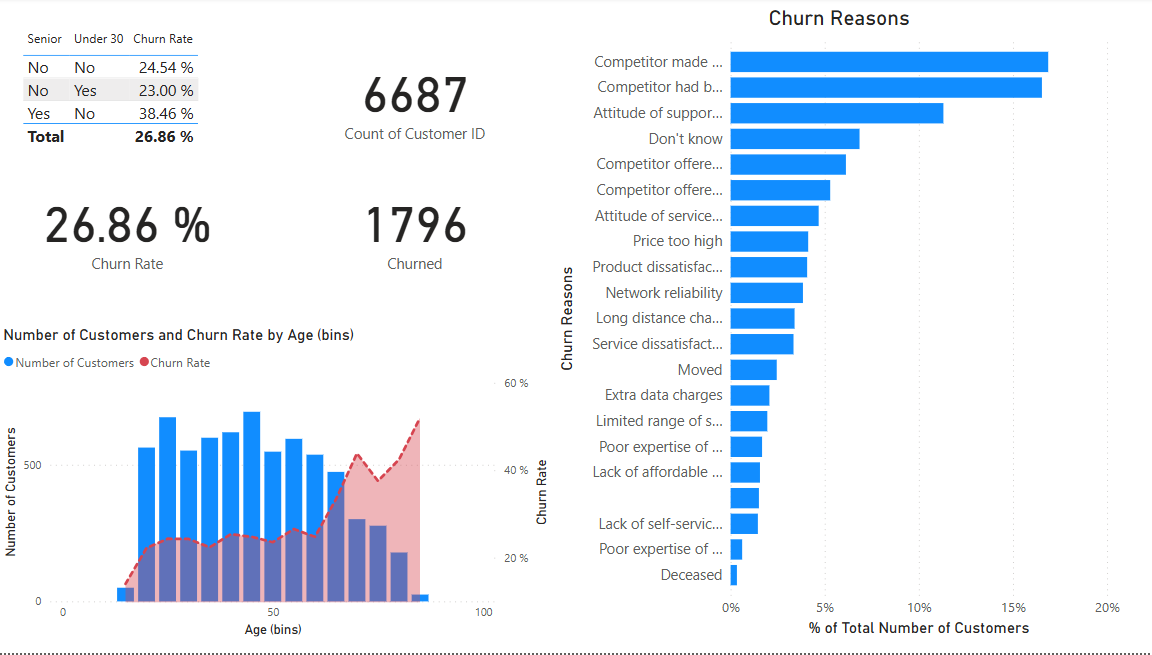

The dashboard page shown, as its layout file describes it:
{"tool":"powerbi","page":{"name":"Churn Demographics","canvas":[1280,720],"ordinal":0},"visuals":[{"type":"tableEx","fields":{"Values":["Databel - Data.Senior","Databel - Data.Under 30","Databel - Data.Churn Rate"]},"box":[35.2,30.8,280.1,161.3],"z":0},{"type":"clusteredBarChart","title":"Churn Reasons","fields":{"Category":["Databel - Data.Churn Reason"],"Y":["CountNonNull(Databel - Data.Number of Customers in Group)"]},"box":[623.2,10.3,626.2,696.5],"z":1000},{"type":"card","fields":{"Values":["Databel - Data.Churn Rate"]},"box":[51.3,192.1,211.2,123.2],"z":2000},{"type":"lineStackedColumnComboChart","fields":{"Category":["Databel - Data.Age (bins)"],"Y":["Databel - Data.Number of costumers"],"Y2":["Databel - Data.Churn Rate"]},"box":[14.7,360.7,608.6,346.1],"z":3000},{"type":"card","fields":{"Values":["Min(Databel - Data.Customer ID)"]},"box":[366.6,49.9,211.2,123.2],"z":4000},{"type":"card","fields":{"Values":["Sum(Databel - Data.Churned)"]},"box":[366.6,192.1,211.2,123.2],"z":5000}]}

Visuals, with their boxes in screenshot pixels (x1, y1, x2, y2), scaled from the page's 1280x720 canvas onto the 1152x655 screenshot:
tableEx - Databel - Data.Senior x Databel - Data.Under 30: bbox(32, 28, 284, 175)
"Churn Reasons" clusteredBarChart: bbox(561, 9, 1124, 643)
card - Databel - Data.Churn Rate: bbox(46, 175, 236, 287)
lineStackedColumnComboChart - Databel - Data.Age (bins) x Databel - Data.Number of costumers: bbox(13, 328, 561, 643)
card - Min(Databel - Data.Customer ID): bbox(330, 45, 520, 157)
card - Sum(Databel - Data.Churned): bbox(330, 175, 520, 287)
